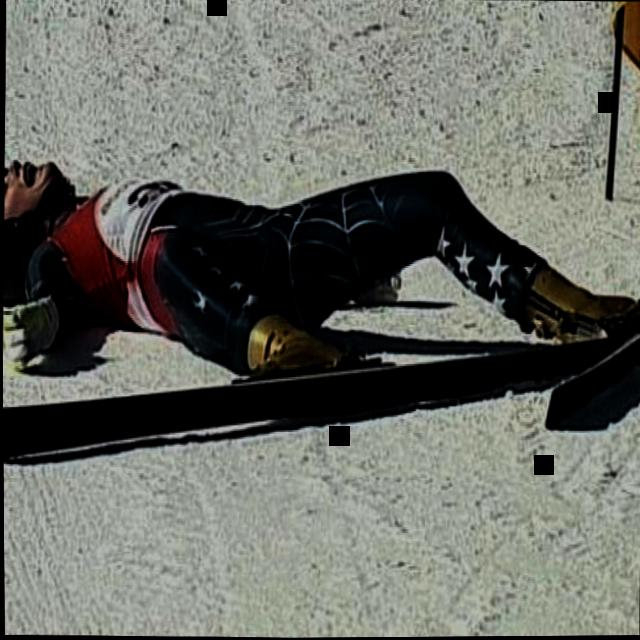Fall-Detected: (1, 121, 640, 427)
